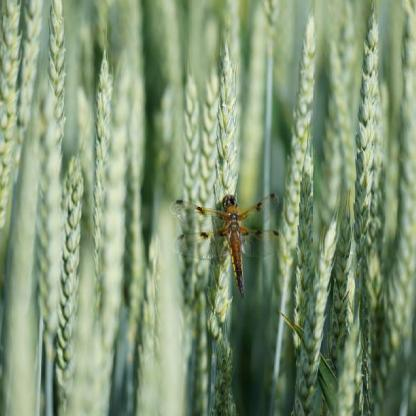sawfly: (174, 180, 284, 300)
